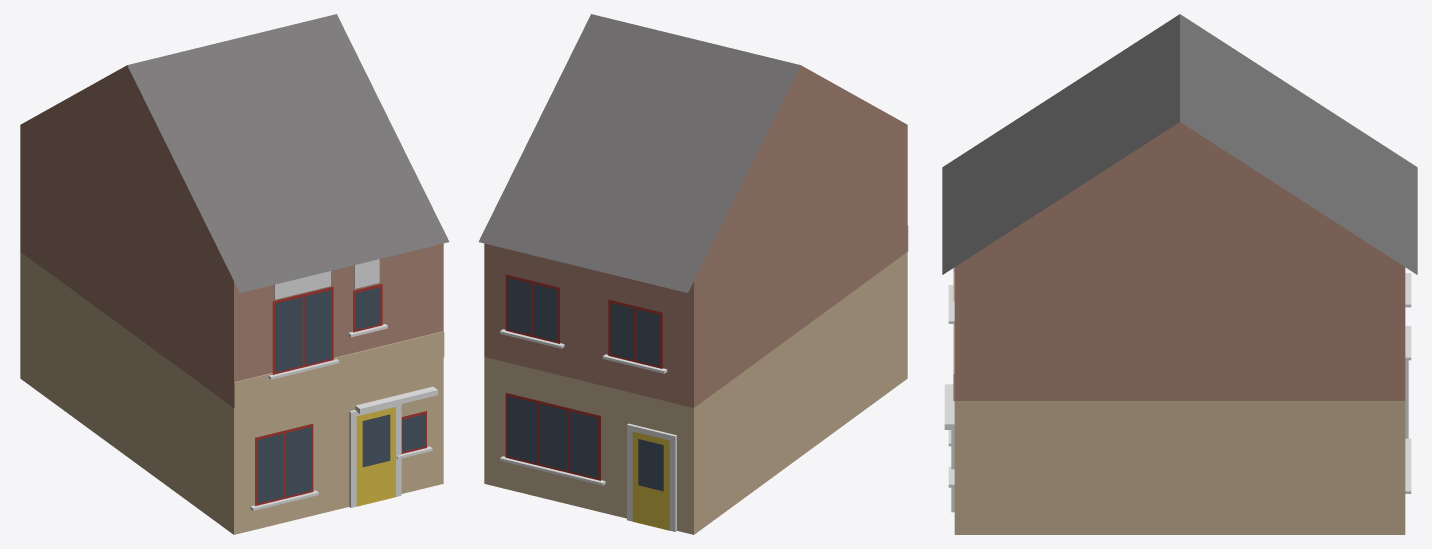
File: zo-rb-two-tone__tefelen__2__gable__long__solid__mirror.glb
The picture shows the model from 3 angles, left to right: view 1: azimuth 30°, elevation 25°; view 2: azimuth 150°, elevation 25°; view 3: azimuth 270°, elevation 25°; orthographic projection. The views are drawn at different scales.
Visible parts, largest first — view 1: zo-rb-two-tone__tefelen__2__gable__long__solid__mirror; view 2: zo-rb-two-tone__tefelen__2__gable__long__solid__mirror; view 3: zo-rb-two-tone__tefelen__2__gable__long__solid__mirror.
Boxes of the visible parts, x1,y1,x2,y2 form: zo-rb-two-tone__tefelen__2__gable__long__solid__mirror: (20,14,449,534); zo-rb-two-tone__tefelen__2__gable__long__solid__mirror: (478,14,908,534); zo-rb-two-tone__tefelen__2__gable__long__solid__mirror: (942,14,1417,534).
Size of the model in its own units: 5.1 by 9.1 by 9.5.
